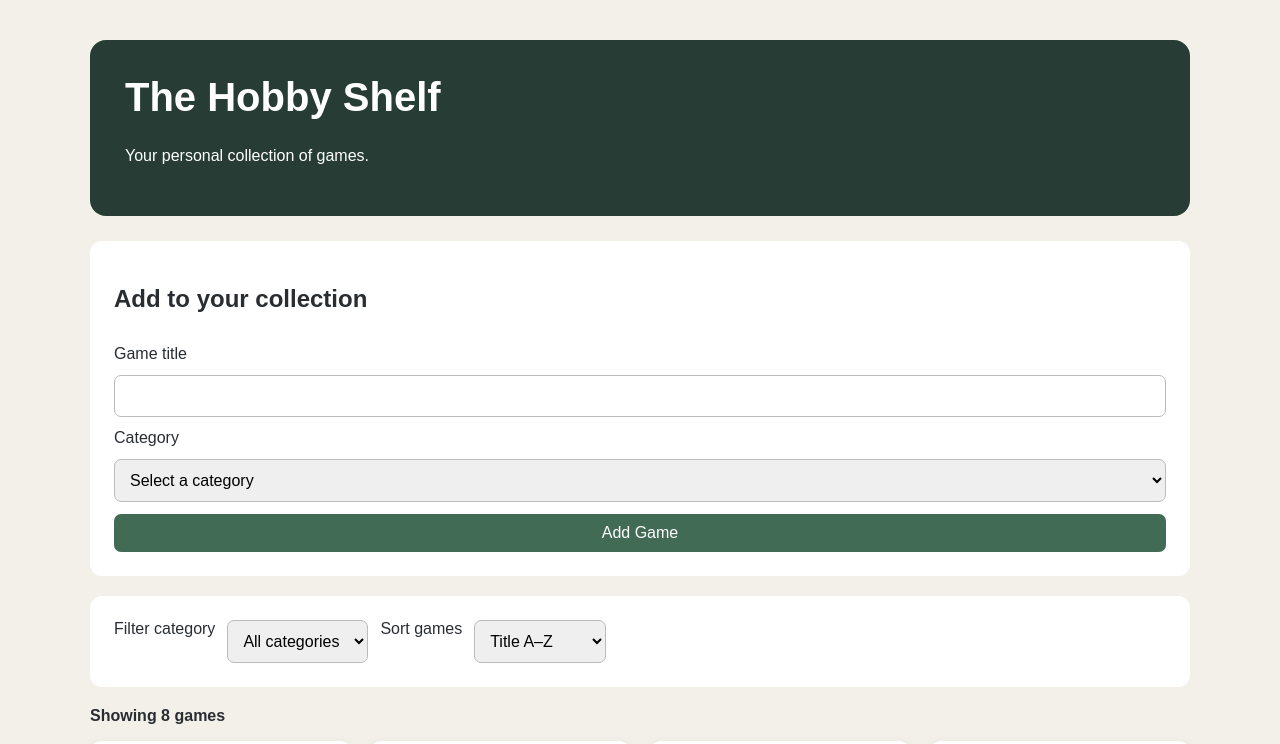
shows validation errors when required fields are empty
Step 1. Click the button "Add Game" → (640, 533), box [114,514,1166,552]
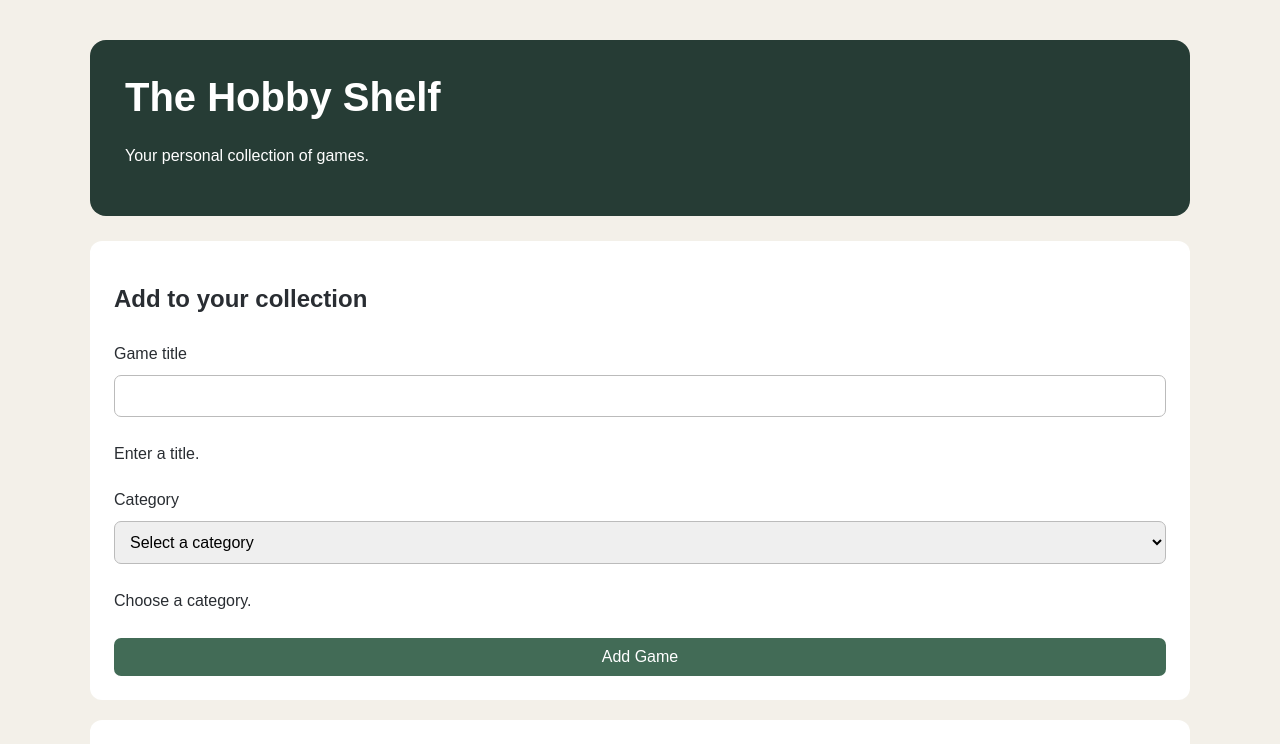
Check: the text "Enter a title." is shown, box [114,445,199,462]
Check: the text "Choose a category." is shown, box [114,592,252,609]
